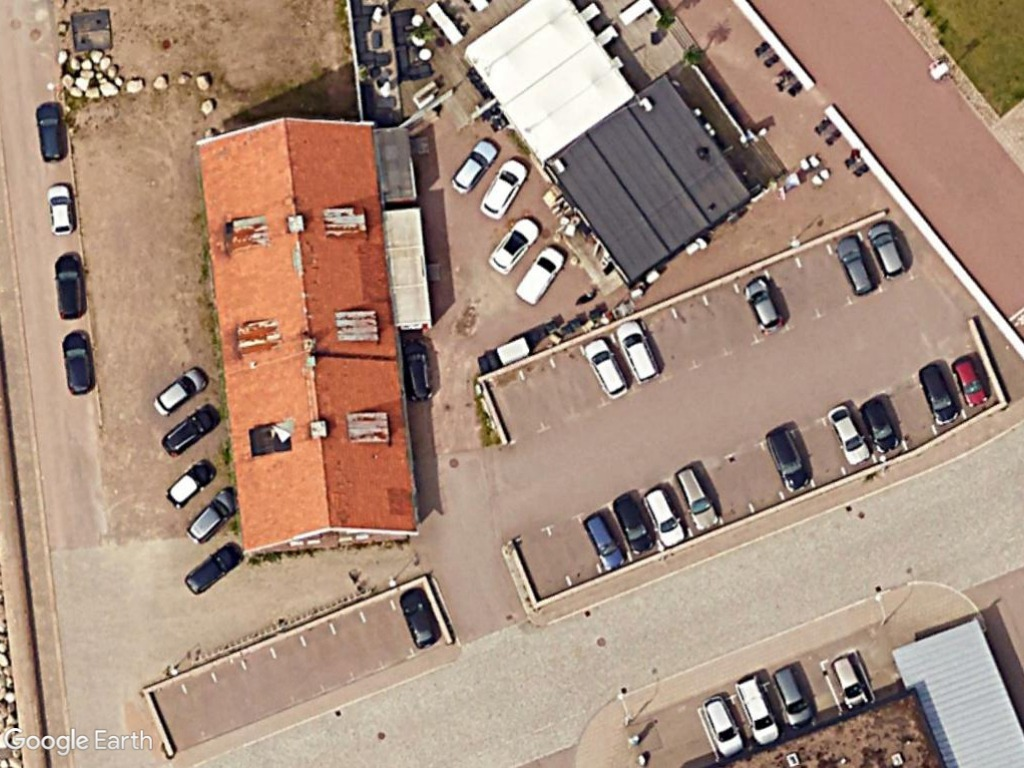car: (184, 486, 243, 549), (483, 213, 542, 276), (479, 151, 532, 221), (608, 486, 660, 557), (672, 463, 724, 534), (184, 539, 248, 596), (734, 673, 782, 749), (161, 402, 223, 460), (149, 362, 212, 419), (764, 423, 815, 493), (582, 332, 633, 401), (767, 661, 816, 731), (614, 317, 663, 386), (447, 135, 503, 194), (394, 582, 441, 652), (640, 482, 687, 549), (915, 361, 962, 428), (827, 402, 874, 468), (858, 391, 905, 457), (701, 692, 747, 759), (834, 231, 881, 296), (163, 456, 218, 511), (581, 507, 626, 573), (866, 218, 911, 284), (59, 327, 99, 398), (828, 648, 870, 715), (741, 273, 786, 334), (54, 253, 90, 323), (951, 351, 991, 409), (36, 101, 69, 167), (46, 179, 79, 237)
van: (512, 241, 566, 308)
